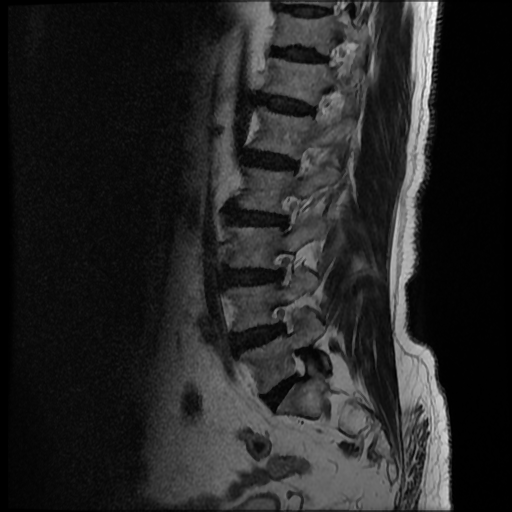RFS0: (269, 185, 312, 238), (262, 242, 305, 294)
